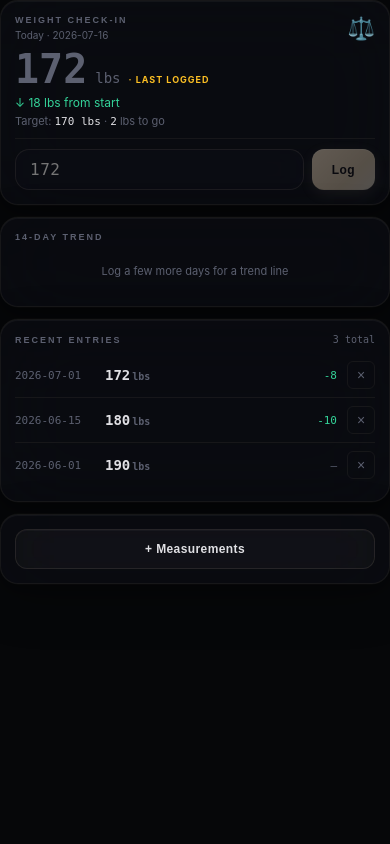
Test case: WeightLogger — goal-cross ceremony › logging a weight at/past goalW in the losing direction mounts GoalCompleteScreen
The width and height of the screenshot is (390, 844).
In the number field with placeholder "172": (159, 170) [15,149,304,190], type "169"
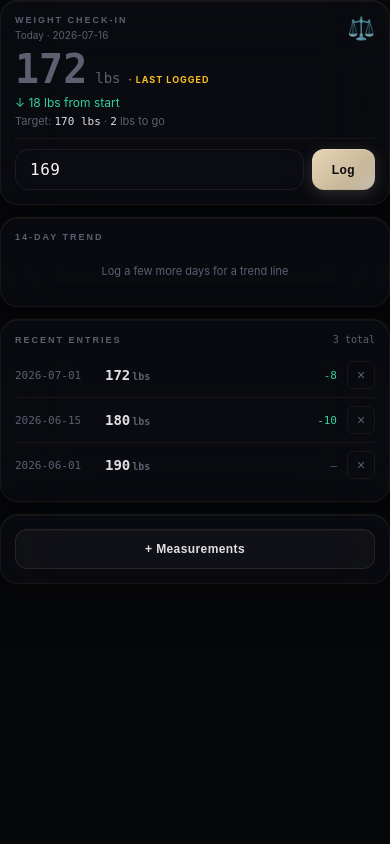
Click the button "Log": (343, 170) [312,149,375,190]
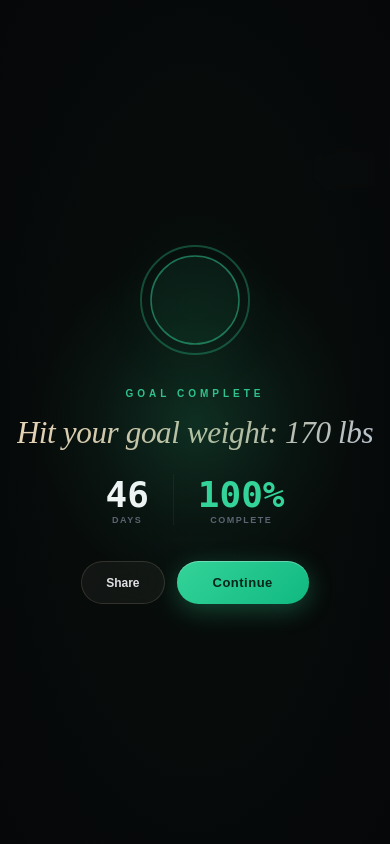
Now the text "Hit your goal weight: 170 lbs" is shown, box [17,415,373,450]
